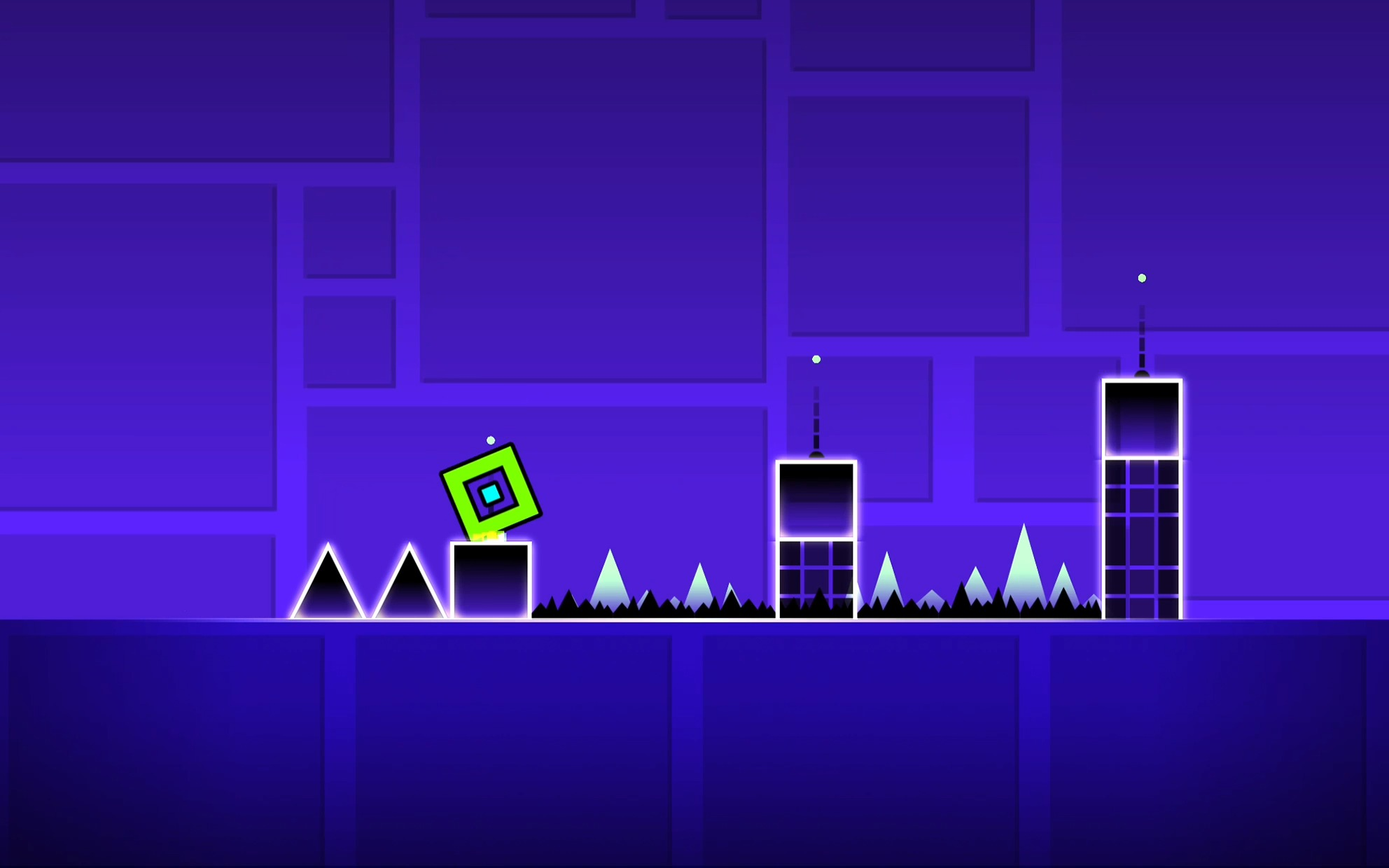Block: (447, 540, 532, 618), (776, 458, 856, 537), (1102, 378, 1182, 457)
Block2: (1103, 458, 1180, 620), (776, 538, 856, 617)
Player: (440, 440, 541, 538)
Spike: (371, 542, 447, 618), (289, 542, 366, 617)
Spike3: (863, 591, 1098, 622), (530, 593, 772, 620)
